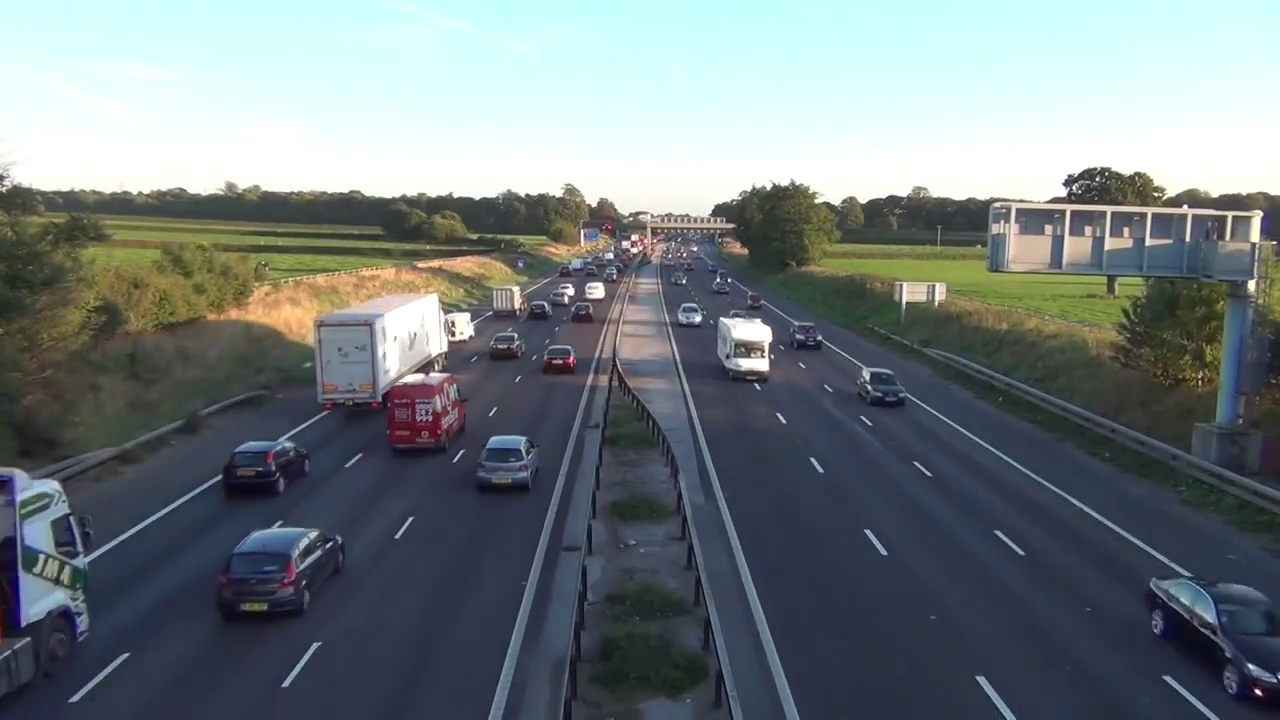bus: (1146, 575, 1280, 707), (220, 528, 347, 621), (226, 440, 312, 500), (475, 434, 539, 489), (856, 368, 905, 405), (545, 344, 577, 373), (491, 333, 526, 359), (791, 322, 821, 352), (677, 304, 701, 325), (527, 302, 551, 318), (571, 303, 593, 320), (747, 294, 763, 307)
car: (0, 467, 87, 699), (318, 294, 447, 411), (493, 286, 523, 316)
lorry: (447, 312, 475, 342)
minibus: (391, 372, 465, 455), (717, 317, 772, 381)
